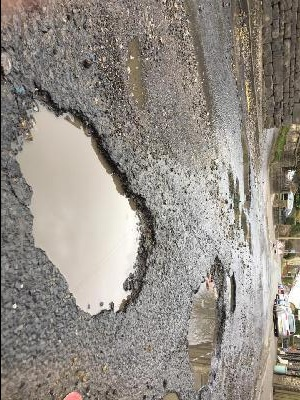pothole: (11, 84, 160, 321), (186, 252, 227, 393), (122, 32, 149, 111), (226, 269, 238, 314), (160, 390, 181, 400)
